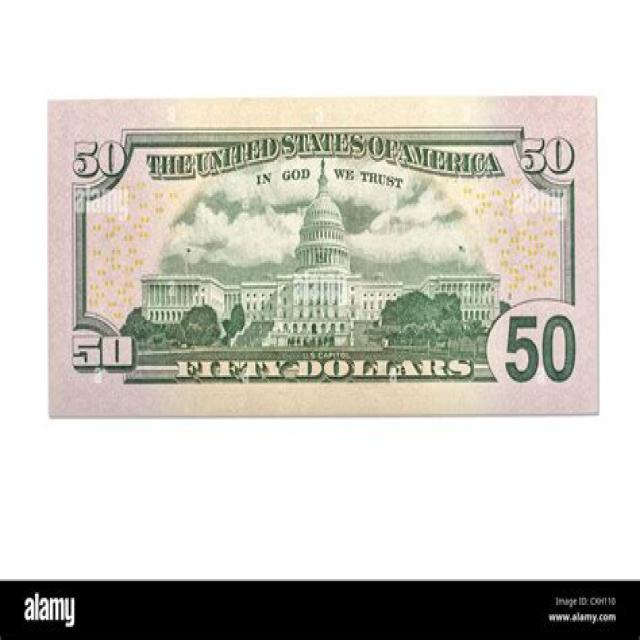Fifty: (47, 100, 601, 417)
